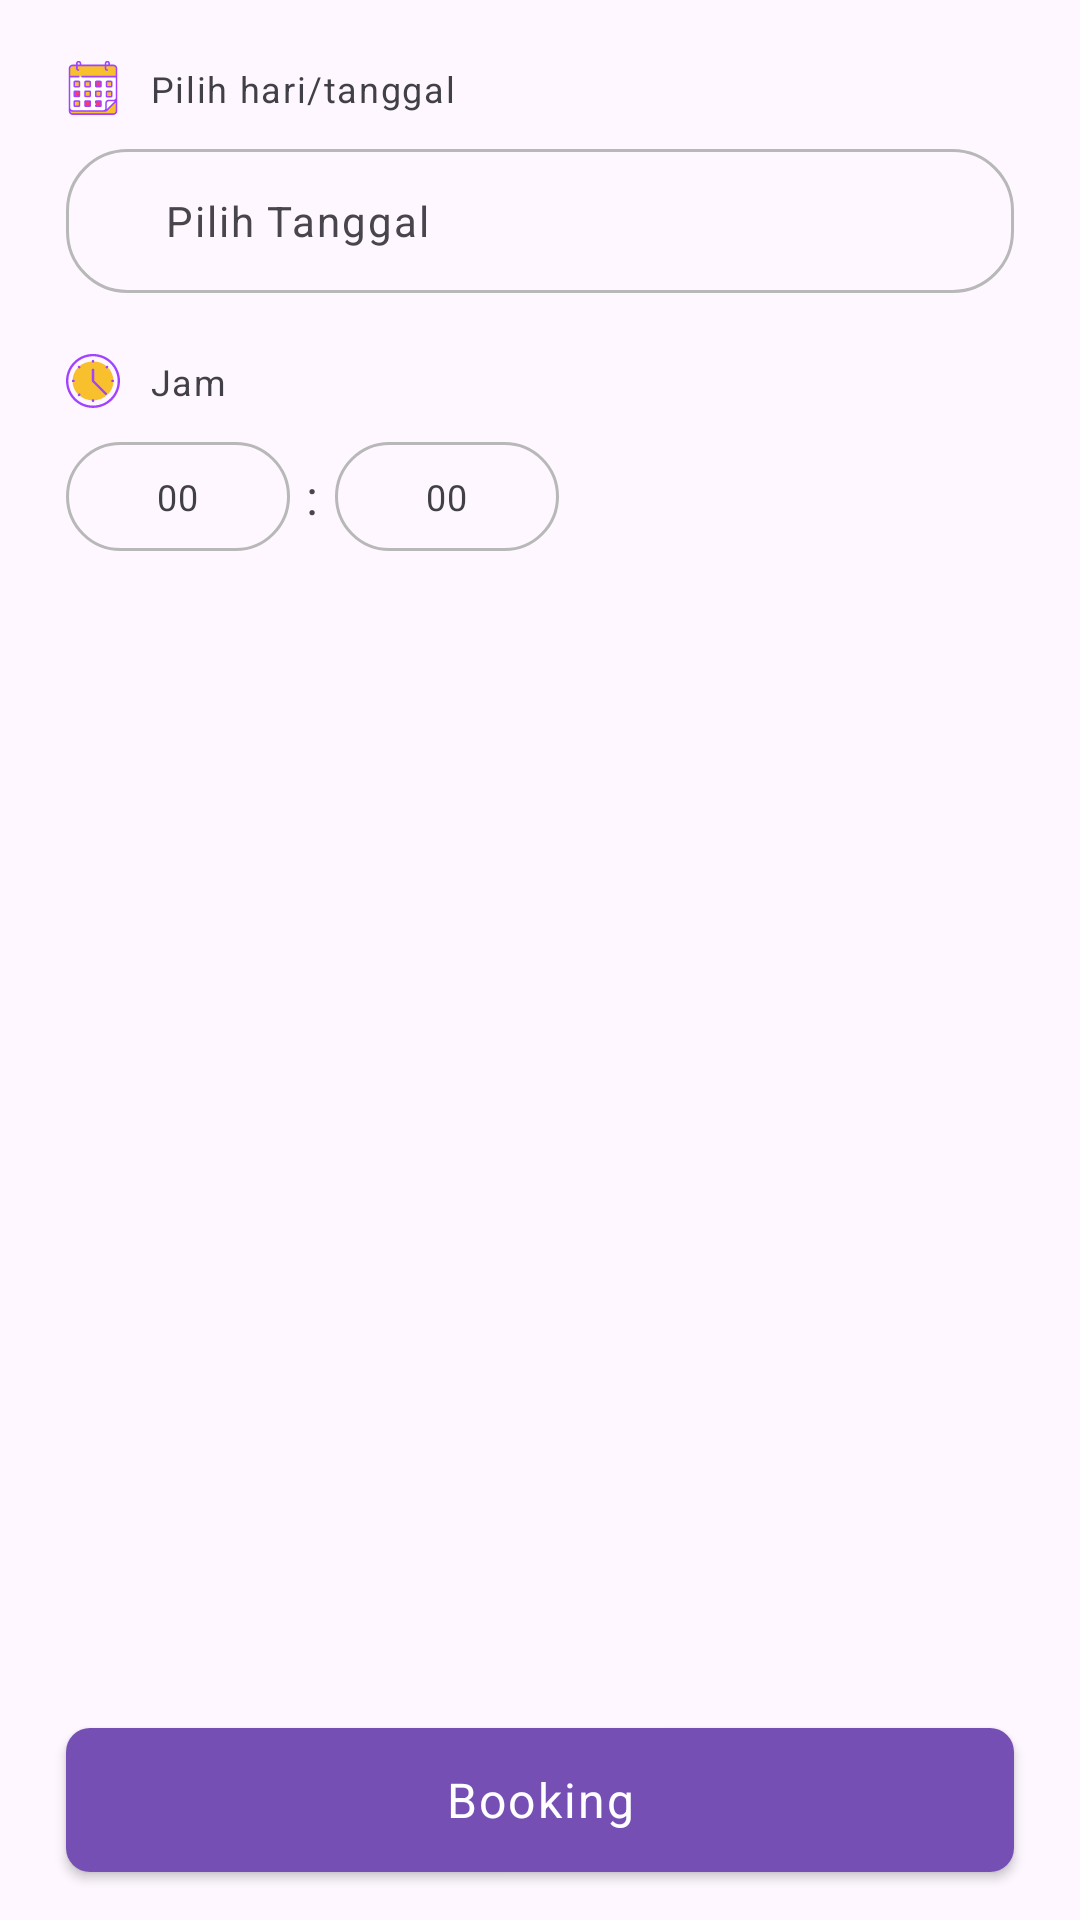

Where icons sit on this 1080px×1920px app screen, as bbox=(x1, y1, x2, y2):
calendar: bbox=(68, 61, 118, 115)
clock: bbox=(66, 354, 120, 408)
